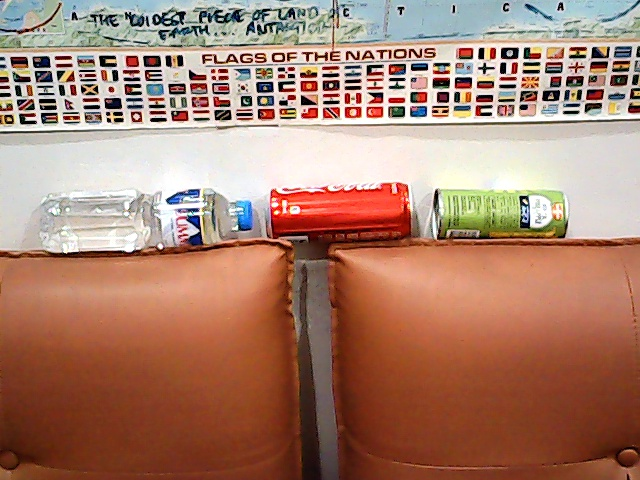Cola: (264, 170, 428, 264)
Pine Juice: (418, 182, 583, 251)
Summit Water: (28, 180, 253, 263)
